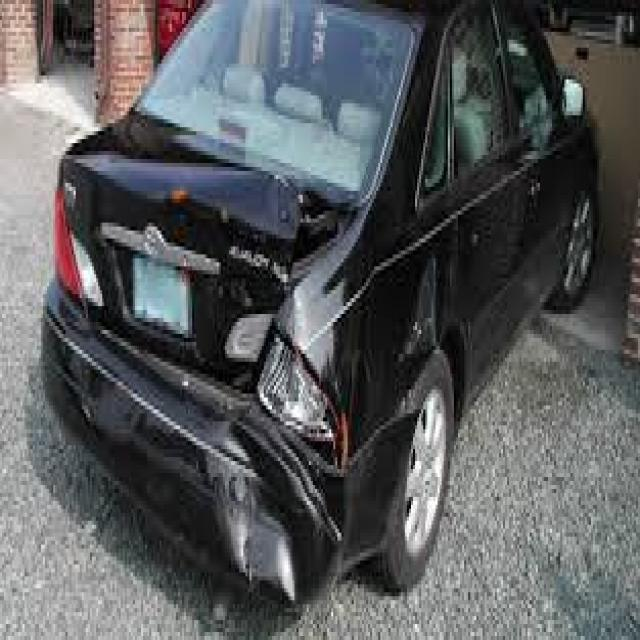damaged: (218, 170, 372, 600)
